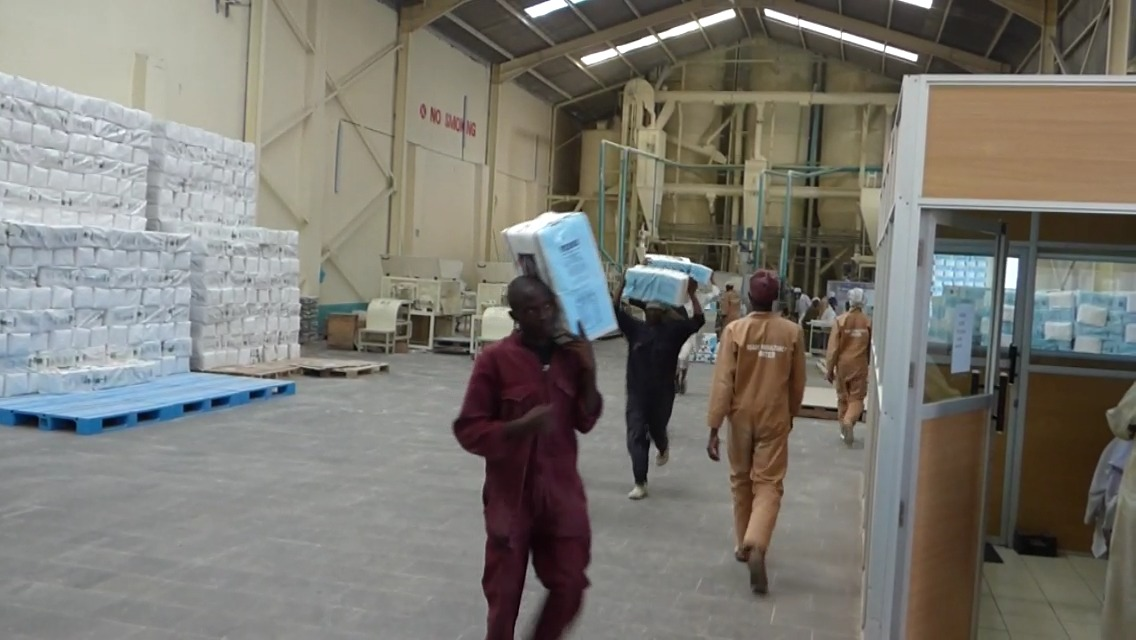wheat_flour_blue_label: (504, 213, 621, 340)
